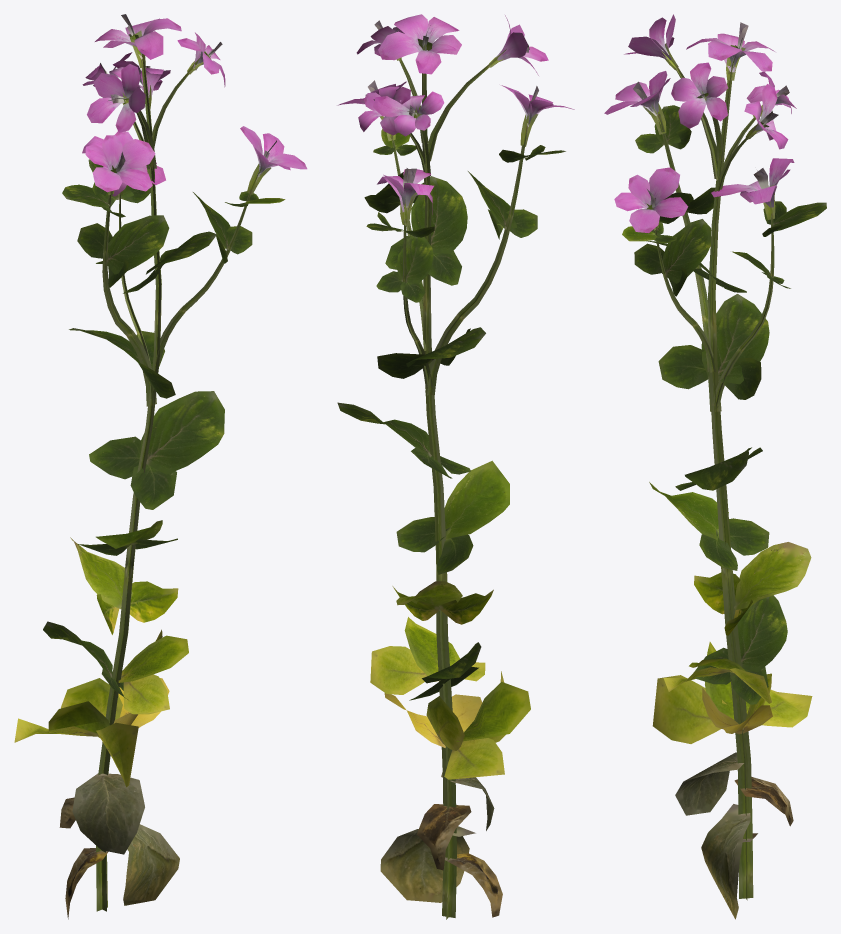
Rendered from Periwinkle_bush_normal_pink.glb.
3 views of the same model, side by side, from view 1: azimuth 30°, elevation 25°; view 2: azimuth 150°, elevation 25°; view 3: azimuth 270°, elevation 25° (orthographic).
Visible parts, largest first — view 1: _b868_Var1_LOD1; view 2: _b868_Var1_LOD1; view 3: _b868_Var1_LOD1.
Boxes of the visible parts, <box> form: _b868_Var1_LOD1: <box>14,14,307,919</box>; _b868_Var1_LOD1: <box>337,14,574,919</box>; _b868_Var1_LOD1: <box>604,14,826,919</box>.
Bounding box in the file's own units: 0.7589 × 2.81 × 0.6398.
Materials: 1 (1 with a texture image).
